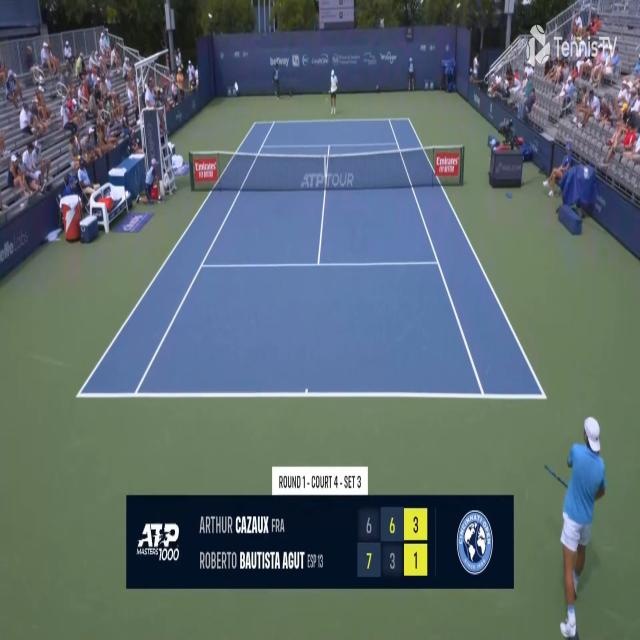tennis-player: (544, 408, 612, 640), (327, 67, 339, 114)
